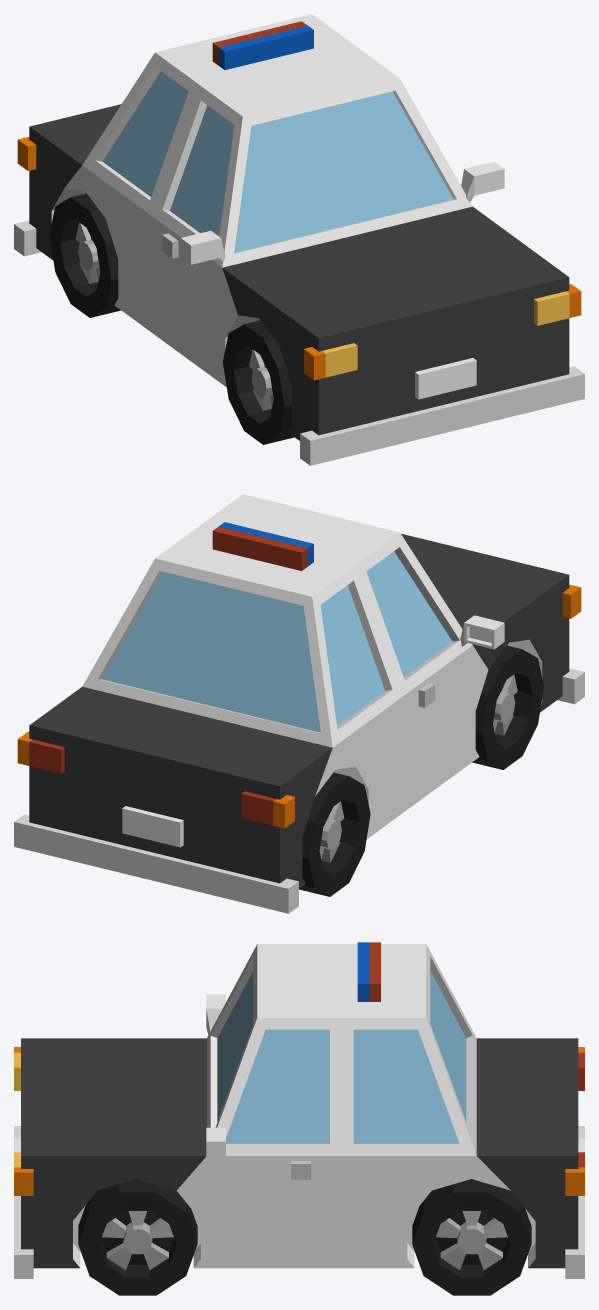
The model's file is taxi.glb.
3 views of the same model, one above another, from view 1: azimuth 30°, elevation 25°; view 2: azimuth 150°, elevation 25°; view 3: azimuth 270°, elevation 25° (orthographic). The views are drawn at different scales.
Visible parts, largest first — view 1: Vehicle.003_Material_0; view 2: Vehicle.003_Material_0; view 3: Vehicle.003_Material_0.
Part boxes in pixels (<box>): Vehicle.003_Material_0: <box>14,14,584,465</box>; Vehicle.003_Material_0: <box>14,494,584,913</box>; Vehicle.003_Material_0: <box>14,942,584,1295</box>.
Bounding box in the file's own units: 2.5 × 2.15 × 4.1.
Materials: 1 (1 with a texture image).
